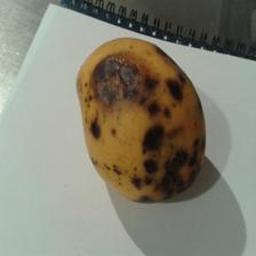Mango Rotten: (66, 25, 215, 204)
